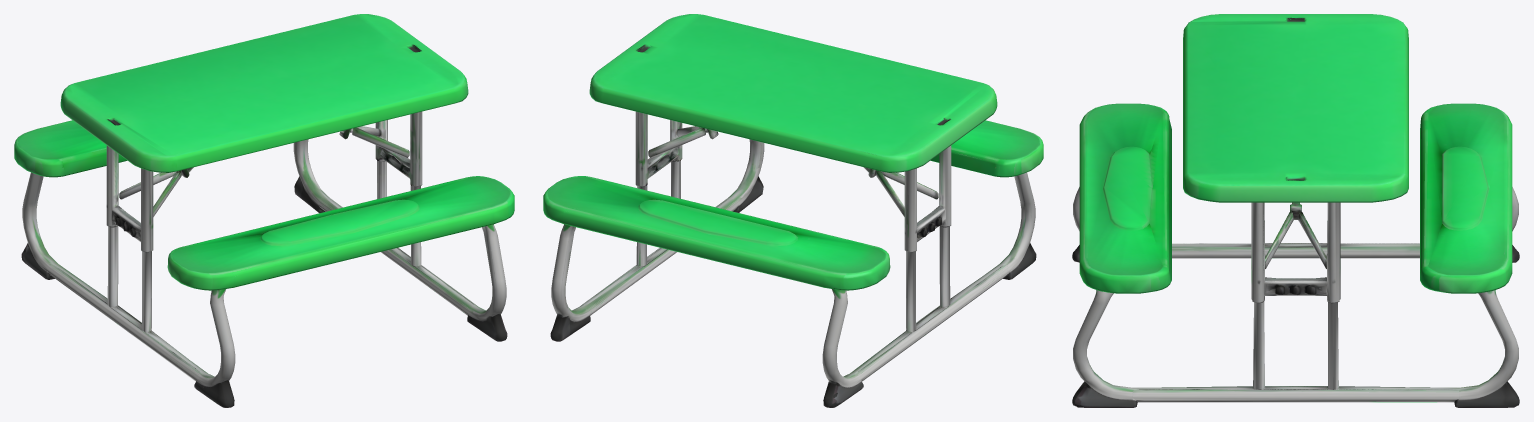
File: kids_green_picnic_tab_0126185336_texture.glb
The picture shows the model from 3 angles, left to right: view 1: azimuth 30°, elevation 25°; view 2: azimuth 150°, elevation 25°; view 3: azimuth 270°, elevation 25°; orthographic projection. The views are drawn at different scales.
Parts seen in each view (by area): view 1: Mesh_0; view 2: Mesh_0; view 3: Mesh_0.
Boxes of the visible parts, box(x1,y1,x2,y2) form: Mesh_0: box(14, 14, 514, 407); Mesh_0: box(543, 14, 1043, 407); Mesh_0: box(1072, 14, 1519, 407).
Bounding box in the file's own units: 0.9854 × 0.6096 × 1.06.
Materials: 1 (1 with a texture image).
